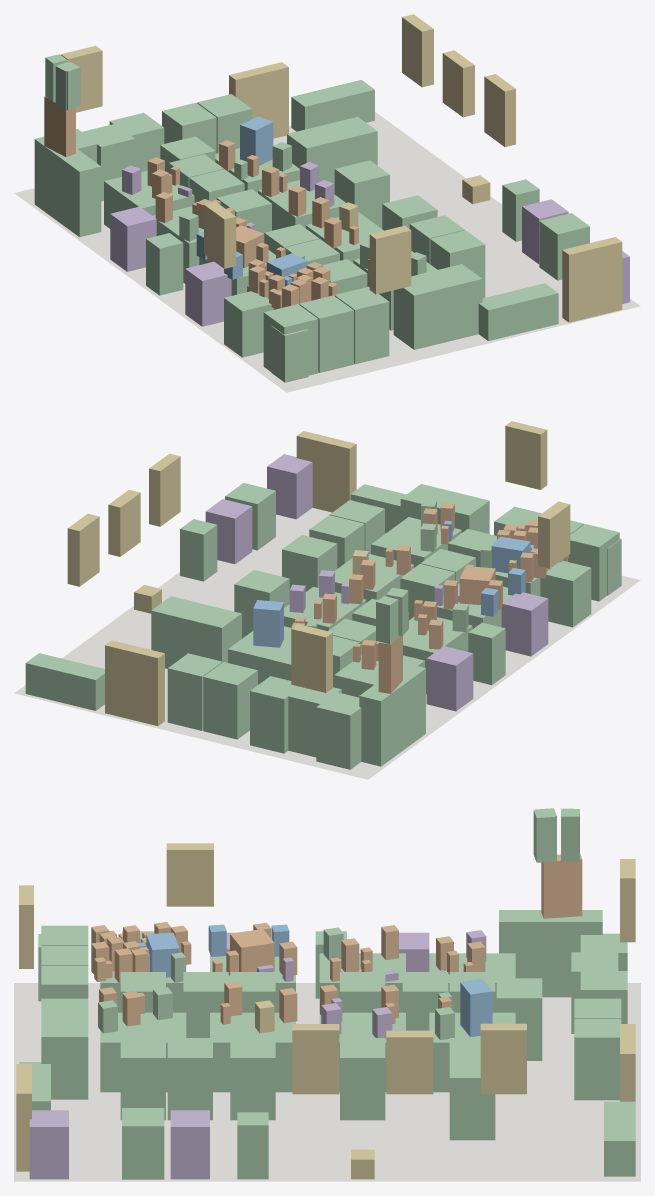
The model's file is layout.glb.
3 views of the same model, one above another, from view 1: azimuth 30°, elevation 25°; view 2: azimuth 150°, elevation 25°; view 3: azimuth 270°, elevation 25° (orthographic). The views are drawn at different scales.
Parts seen in each view (by area): view 1: room_extent_proxy, obj_0049, obj_0042, obj_0021, obj_0039, obj_0040, obj_0041, obj_0010, obj_0012, obj_0113, obj_0028, obj_0023 (+43 smaller); view 2: room_extent_proxy, obj_0049, obj_0041, obj_0042, obj_0040, obj_0022, obj_0009, obj_0013, obj_0043, obj_0024, obj_0035, obj_0113 (+44 smaller); view 3: room_extent_proxy, obj_0049, obj_0024, obj_0028, obj_0023, obj_0027, obj_0005, obj_0026, obj_0114, obj_0112, obj_0030, obj_0025 (+55 smaller).
Part boxes in pixels (x1,y1,x2,y2): room_extent_proxy: (14,112,640,392); obj_0049: (34,136,101,237); obj_0042: (562,237,622,322); obj_0021: (393,272,448,349); obj_0039: (478,283,558,340); obj_0040: (291,80,374,131); obj_0041: (229,62,288,138); obj_0010: (299,295,353,372); obj_0012: (334,286,389,364); obj_0113: (369,225,411,294); obj_0028: (334,160,389,228); obj_0023: (428,264,482,341); room_extent_proxy: (14,507,640,779); obj_0049: (359,663,425,766); obj_0041: (105,640,164,725); obj_0042: (296,431,356,512); obj_0040: (25,653,104,710); obj_0022: (203,662,257,739); obj_0009: (316,692,361,769); obj_0013: (250,676,300,753); obj_0043: (540,560,591,627); obj_0024: (167,653,222,730); obj_0035: (426,646,473,711); obj_0113: (505,421,547,489); room_extent_proxy: (14,983,640,1181); obj_0049: (499,910,602,997); obj_0024: (574,1018,621,1100); obj_0028: (340,1038,385,1120); obj_0023: (41,1018,88,1099); obj_0027: (230,1038,275,1120); obj_0005: (210,1012,295,1092); obj_0026: (167,1038,212,1120); obj_0114: (292,1024,339,1094); obj_0112: (480,1023,526,1094); obj_0030: (449,1058,495,1140); obj_0025: (120,1038,165,1120).
Bounding box in the file's own units: 6 × 2.49 × 8.
